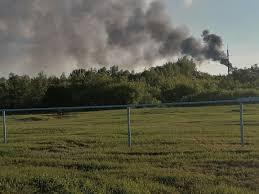smoke: (0, 0, 240, 74)
